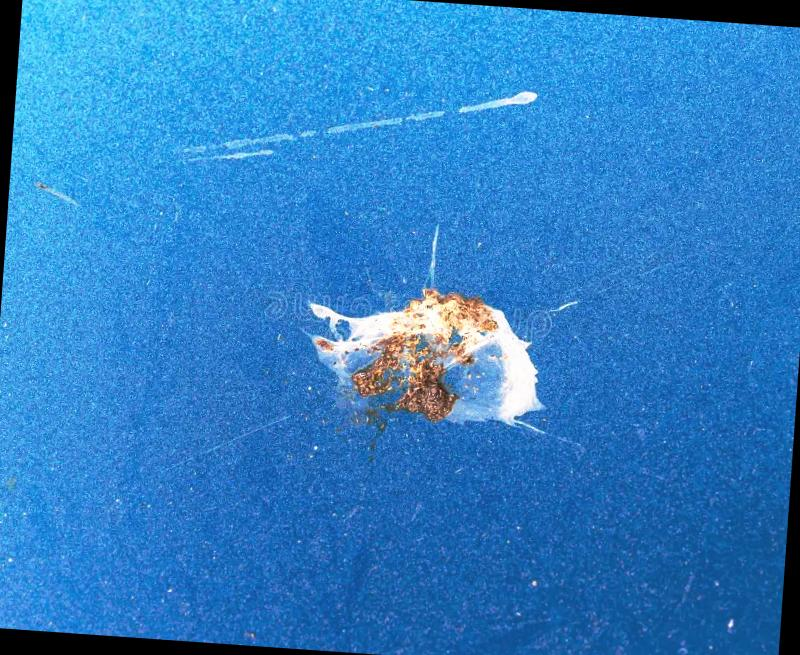Bird Poop: (309, 227, 543, 432), (183, 130, 318, 159), (324, 110, 443, 132), (459, 91, 537, 112), (35, 182, 78, 205)
